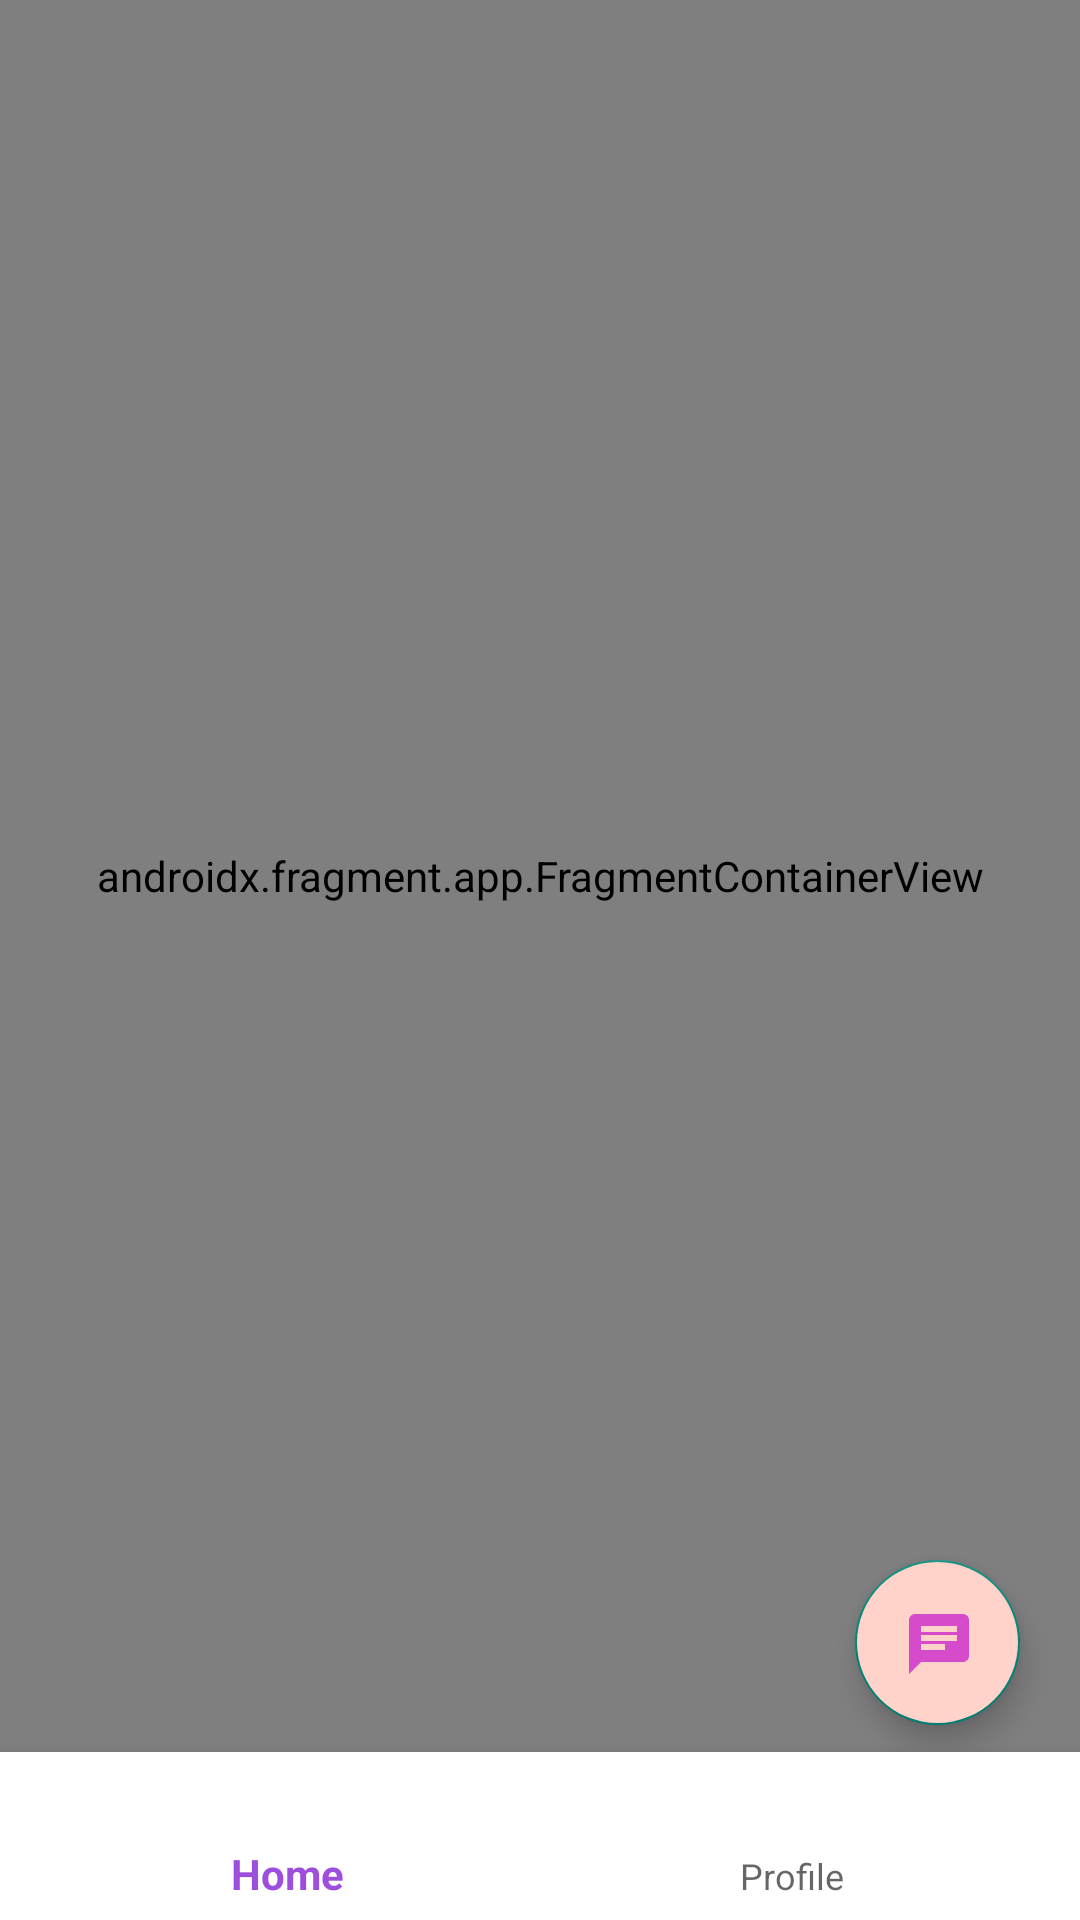

Icon bounding boxes for this 1080 × 1920 phone screenshot, format (x1, y1, x2, y2):
chat: (855, 1560, 1020, 1725)
